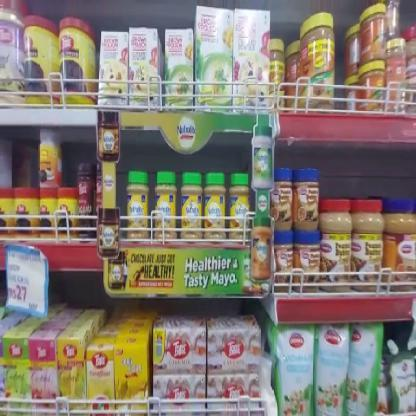Nutralite ACHARI MAYO 300g-275g-25g-: (204, 175, 226, 240), (230, 174, 250, 242)
Nutralite CHEESY GARLIC MAYO 300g-275g-25g-: (154, 172, 176, 244), (126, 170, 148, 241), (180, 171, 202, 241)
